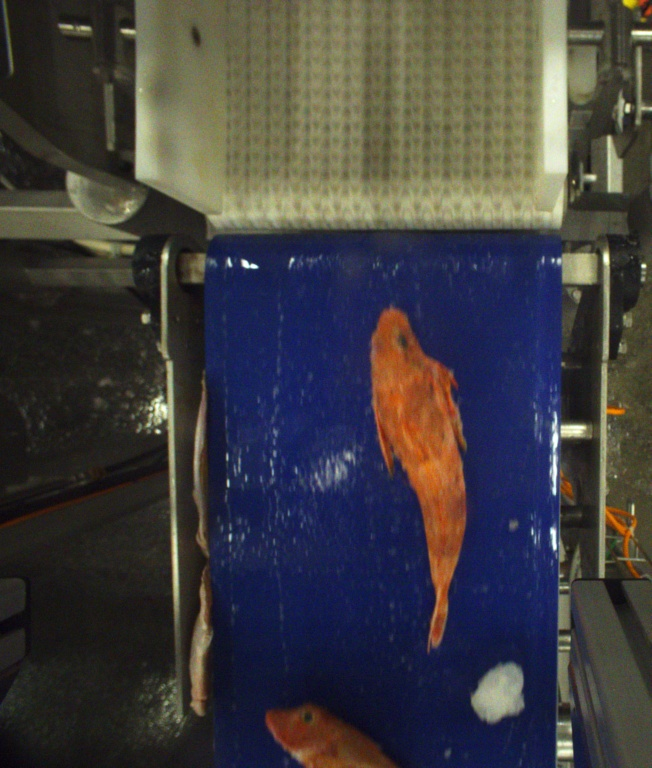GUU: (265, 708, 397, 768)
